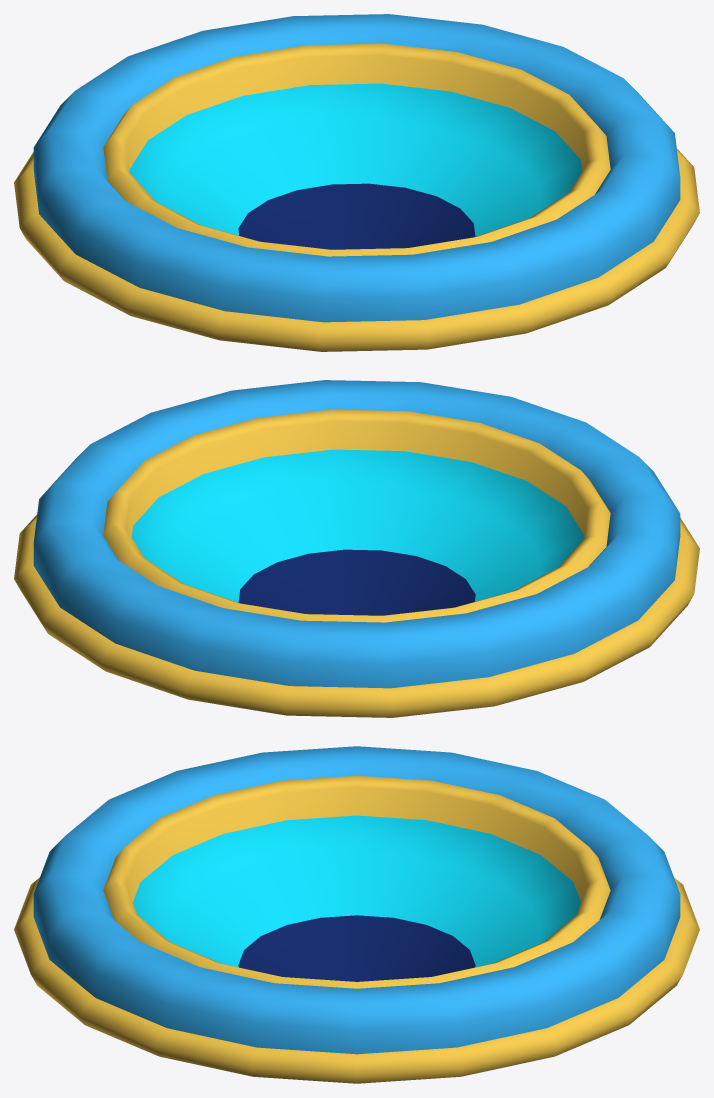
File: core_01_base_hole.glb
3 renders of one model, top to bottom at view 1: azimuth 30°, elevation 25°; view 2: azimuth 150°, elevation 25°; view 3: azimuth 270°, elevation 25°, orthographic.
Visible parts, largest first — view 1: CORE_01_BaseHole; view 2: CORE_01_BaseHole; view 3: CORE_01_BaseHole.
Boxes of the visible parts, x1=… form: CORE_01_BaseHole: x1=14, y1=14, x2=699, y2=351; CORE_01_BaseHole: x1=14, y1=380, x2=699, y2=717; CORE_01_BaseHole: x1=14, y1=746, x2=699, y2=1083.
Size of the model in its own units: 2.08 by 0.44 by 2.08.
1 material, 1 textured.
